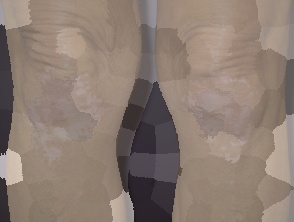vitiligo: (149, 16, 294, 172), (0, 36, 134, 175)
